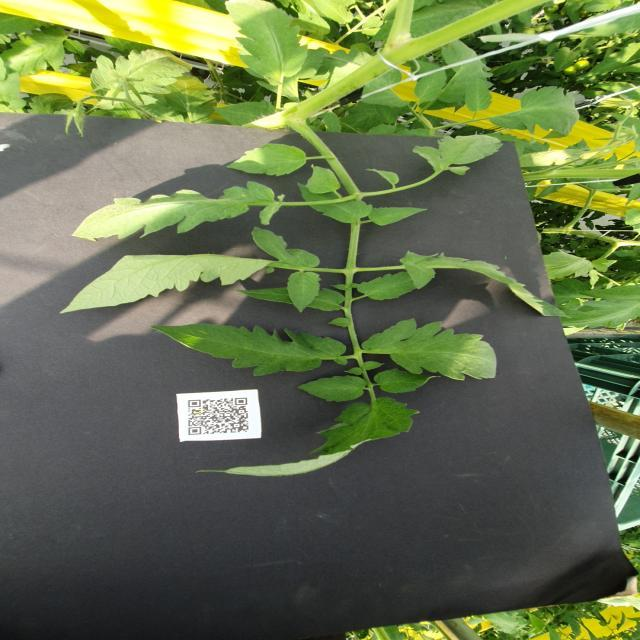Tomato healthy leaf: (57, 226, 320, 314), (192, 396, 422, 478), (68, 180, 286, 242), (396, 250, 569, 320), (146, 324, 348, 376), (362, 318, 499, 381), (224, 0, 308, 86), (486, 85, 582, 139), (92, 47, 194, 95), (0, 24, 87, 80), (410, 133, 502, 177), (552, 282, 640, 328), (296, 180, 372, 224), (224, 142, 308, 176), (163, 72, 217, 122), (296, 373, 368, 402), (356, 270, 418, 302), (374, 366, 442, 394), (210, 100, 276, 126), (368, 206, 431, 226), (464, 72, 494, 113), (304, 162, 340, 195), (415, 68, 448, 103), (313, 0, 354, 24), (551, 46, 582, 73)
